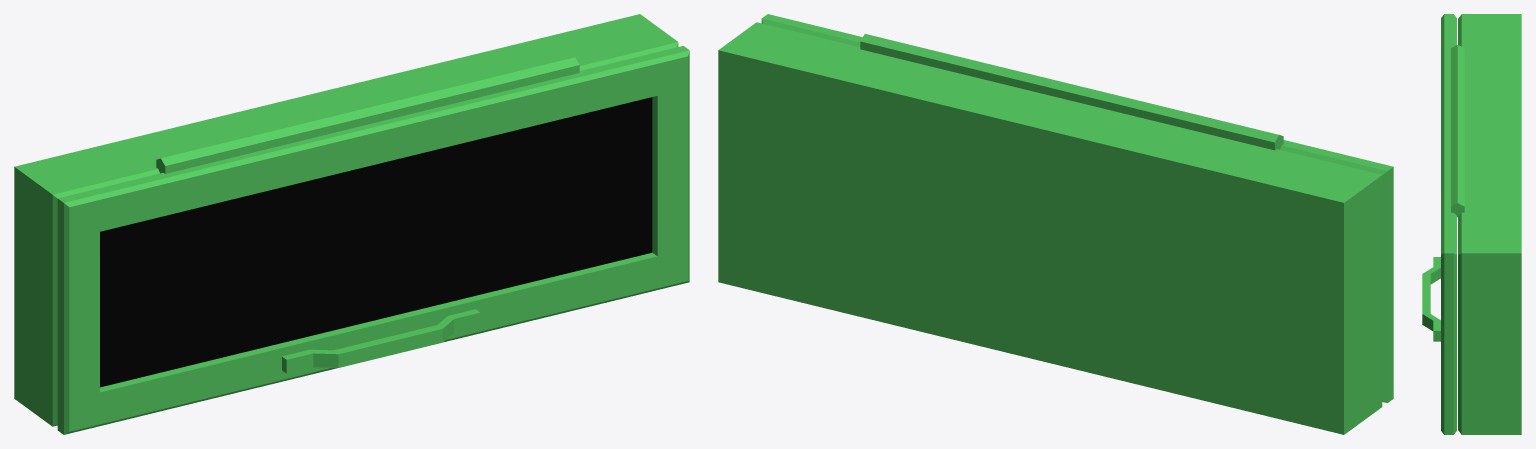
Rendered from Ph_fire_shield.fbx.
The picture shows the model from 3 angles, left to right: view 1: azimuth 30°, elevation 25°; view 2: azimuth 150°, elevation 25°; view 3: azimuth 270°, elevation 25°; orthographic projection. The views are drawn at different scales.
Visible parts, largest first — view 1: Cube_57; view 2: Cube_57; view 3: Cube_57.
Part boxes in pixels (left/top/right/bottom): Cube_57: left=14, top=14, right=689, bottom=434; Cube_57: left=718, top=14, right=1393, bottom=434; Cube_57: left=1422, top=14, right=1521, bottom=434.
Bounding box in the file's own units: 96.34 × 35.96 × 16.94.
